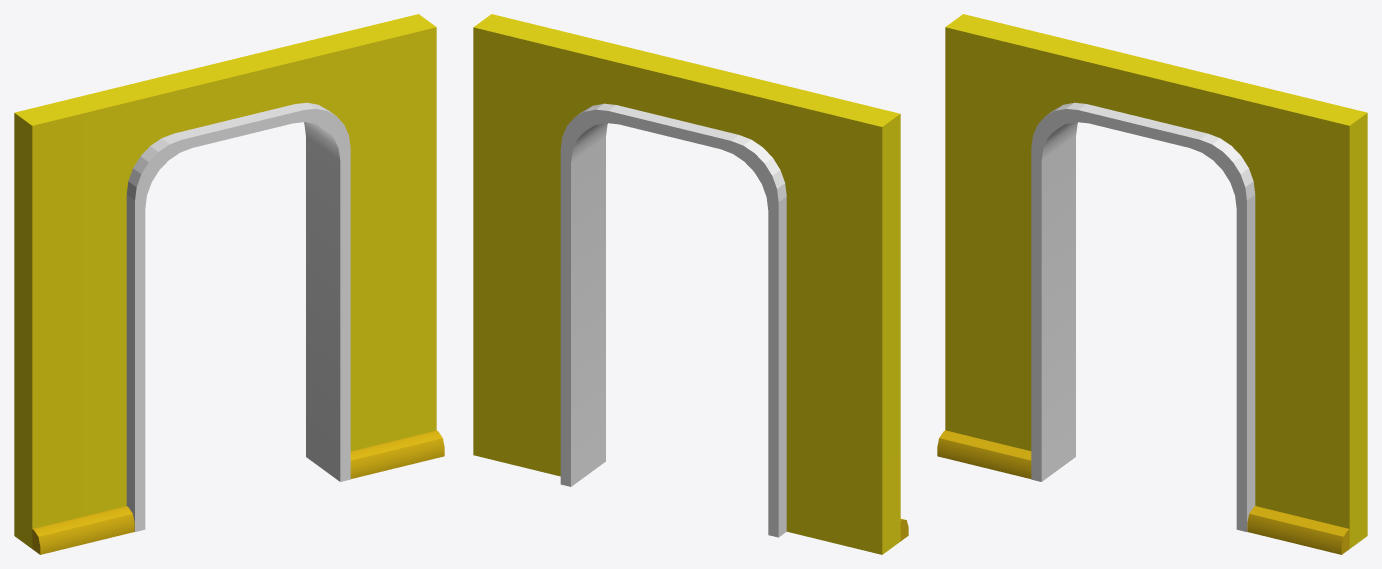
Rendered from Y_DoorWall004.fbx.
The picture shows the model from 3 angles, left to right: view 1: azimuth 30°, elevation 25°; view 2: azimuth 150°, elevation 25°; view 3: azimuth 330°, elevation 25°; orthographic projection.
Visible parts, largest first — view 1: DoorWall004.003; view 2: DoorWall004.003; view 3: DoorWall004.003.
Part boxes in pixels (x1,y1,x2,y2): DoorWall004.003: (14, 14, 444, 554); DoorWall004.003: (473, 14, 908, 554); DoorWall004.003: (937, 14, 1367, 554).
Size of the model in its own units: 250 by 250 by 36.86.
1 material, 1 textured.
